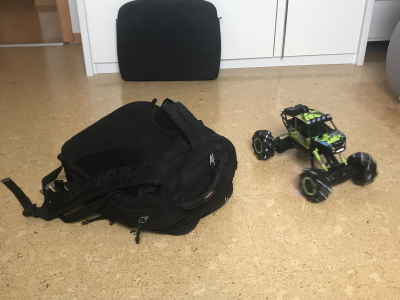remote control car: (249, 101, 380, 204)
